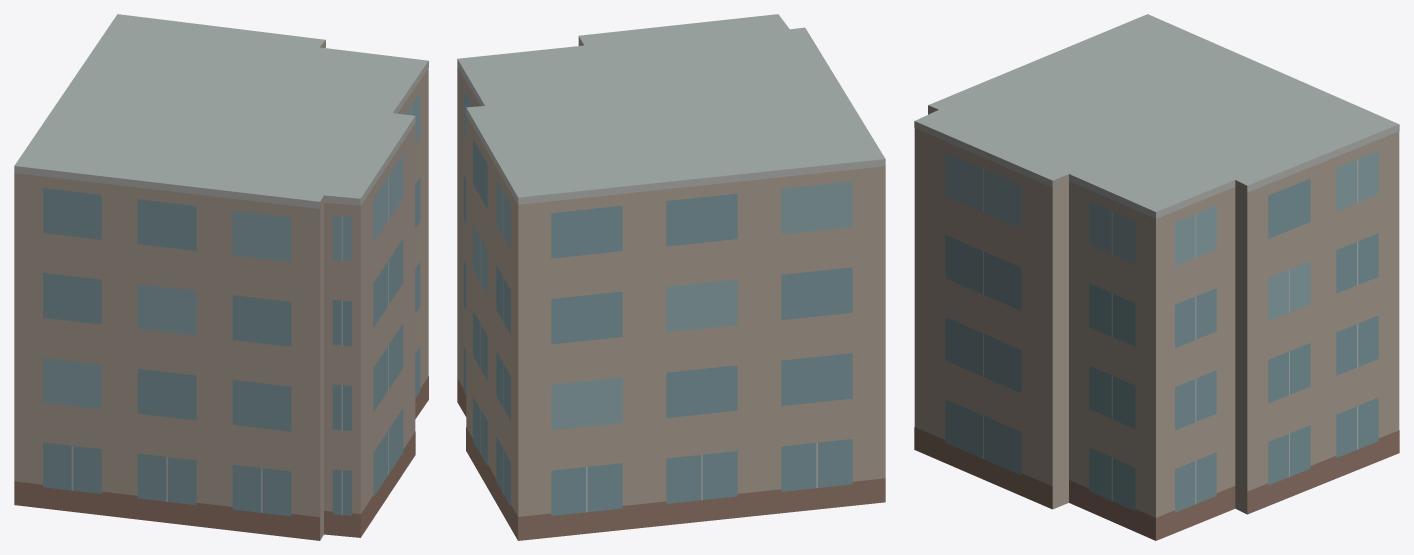
File: survey-upis-32592600.glb
3 renders of one model, left to right at view 1: azimuth 30°, elevation 25°; view 2: azimuth 150°, elevation 25°; view 3: azimuth 270°, elevation 25°, orthographic. The views are drawn at different scales.
Parts seen in each view (by area): view 1: survey-upis-32592600.tmp; view 2: survey-upis-32592600.tmp; view 3: survey-upis-32592600.tmp.
Boxes of the visible parts, box(x1,y1,x2,y2) form: survey-upis-32592600.tmp: box(14, 14, 428, 540); survey-upis-32592600.tmp: box(457, 14, 885, 540); survey-upis-32592600.tmp: box(914, 14, 1399, 540).
Bounding box in the file's own units: 15 × 11.6 × 15.51.
